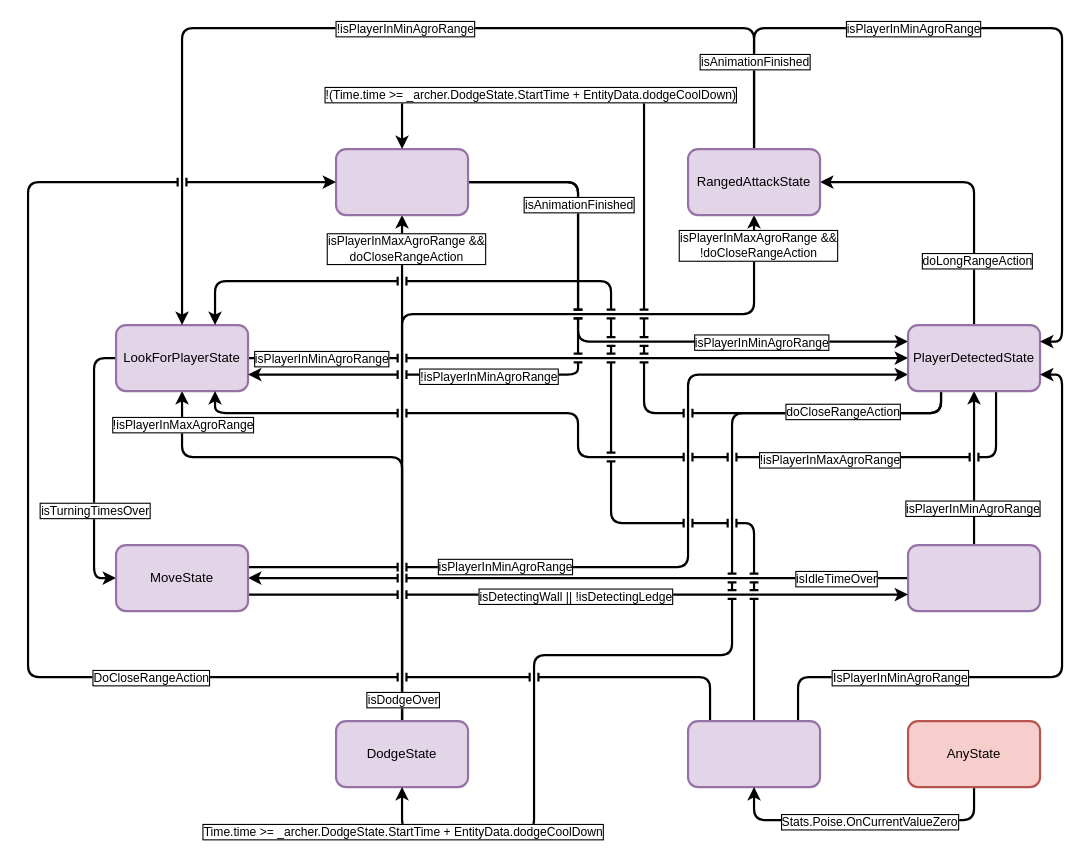
Image size: 1090x859. Some labels were removed from this diagram. Here are the shapes that lost their labels. From the top down, the box of each, then its label:
(334, 147, 469, 216): MeleeAttackState
(906, 543, 1041, 612): IdleState
(686, 719, 821, 788): StunState
